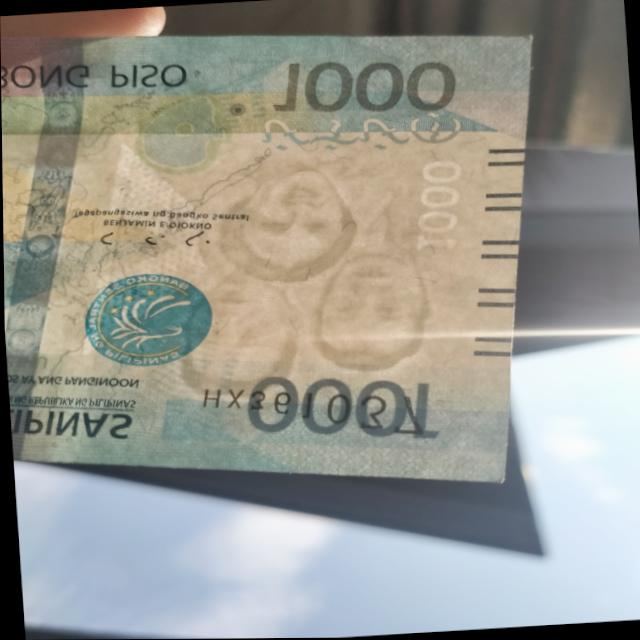see_through_mark: (252, 109, 467, 160)
value_watermark: (404, 155, 474, 261)
watermark: (161, 155, 436, 400)
